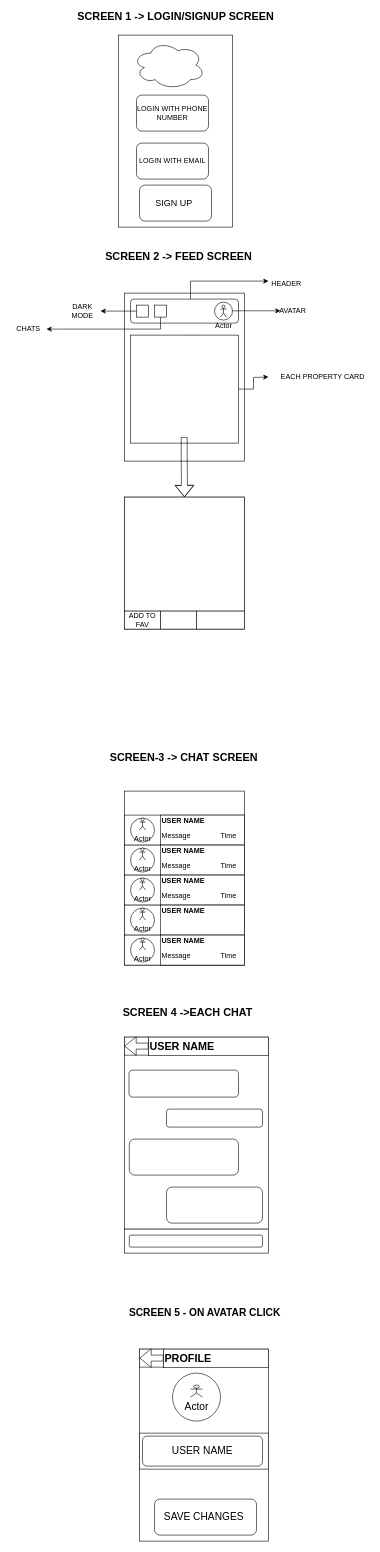
Some shapes in this 380 by 1552 pixel diagram are drawn without their labels. The shapes that lost their labels are listed below. From the top down, each one's centre as x and y in pixels, then its label:
At (x=168, y=64): "LOGO".
At (x=184, y=553): "PROPERTY IMAGE".
At (x=220, y=619): "CHAT WITH OWNER".
At (x=195, y=1240): "INPUT".
